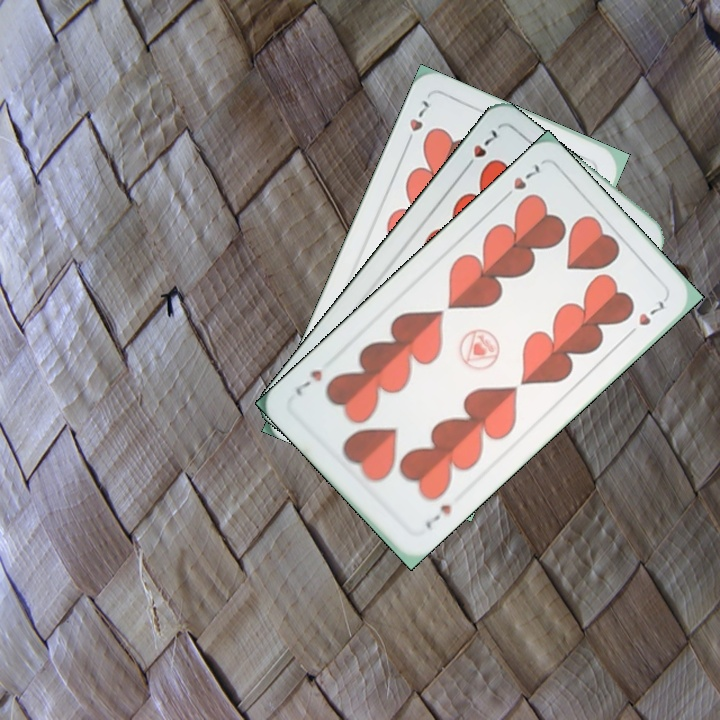H7: (459, 126, 503, 175), (497, 159, 543, 205), (400, 96, 432, 150), (420, 500, 454, 532)
